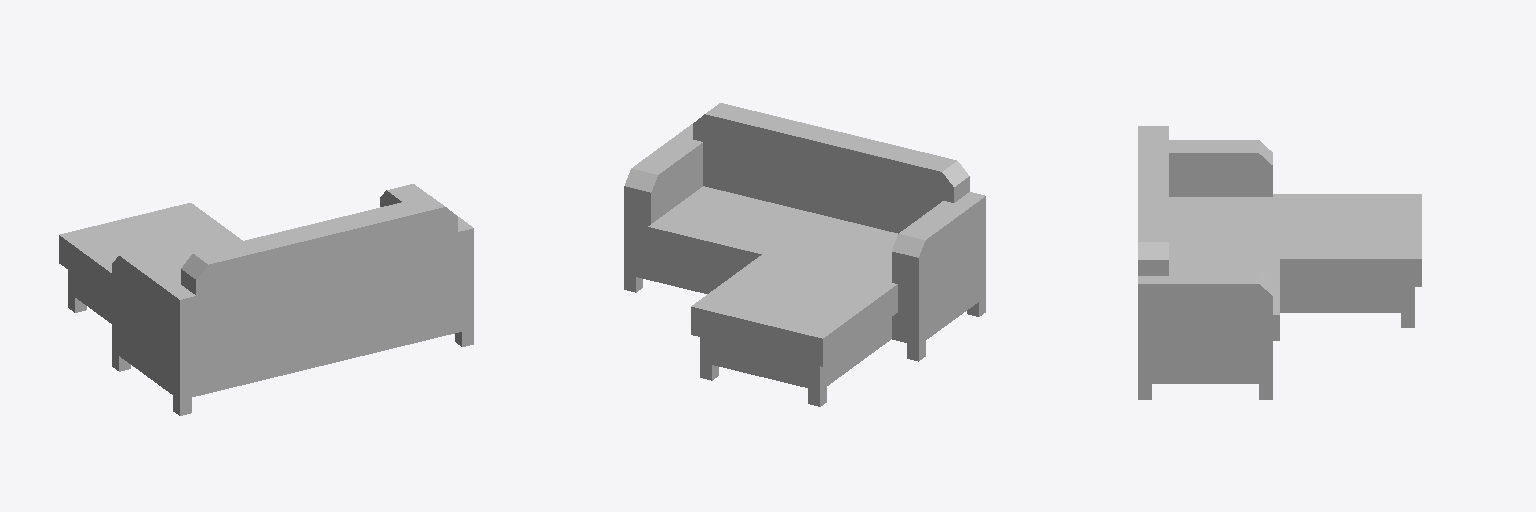
Rendered from loungeSofaLong.obj.
The picture shows the model from 3 angles: view 1: azimuth 30°, elevation 25°; view 2: azimuth 150°, elevation 25°; view 3: azimuth 270°, elevation 25°; orthographic projection.
Parts seen in each view (by area): view 1: loungeSofaLong; view 2: loungeSofaLong; view 3: loungeSofaLong.
Part boxes in pixels (bbox=[...]): loungeSofaLong: bbox=[59, 184, 473, 415]; loungeSofaLong: bbox=[624, 103, 985, 406]; loungeSofaLong: bbox=[1138, 126, 1421, 399].
Bounding box in the file's own units: 0.98 × 0.46 × 0.82.